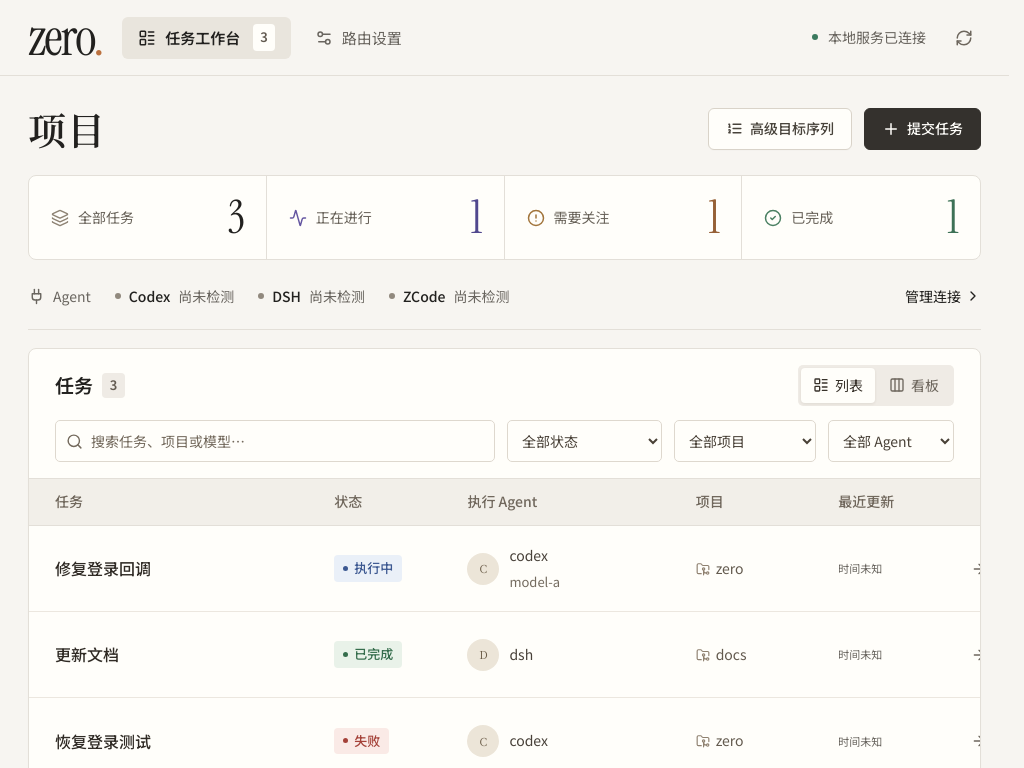
Test: Agent connection management in workspace › keeps missing capability entries unknown instead of inventing missing configuration
Expected: the button "修复登录回调" is shown, [55, 554, 151, 583]
Click the button with aria-label "管理 Agent 连接".
click(938, 296)  # box [895, 278, 981, 315]
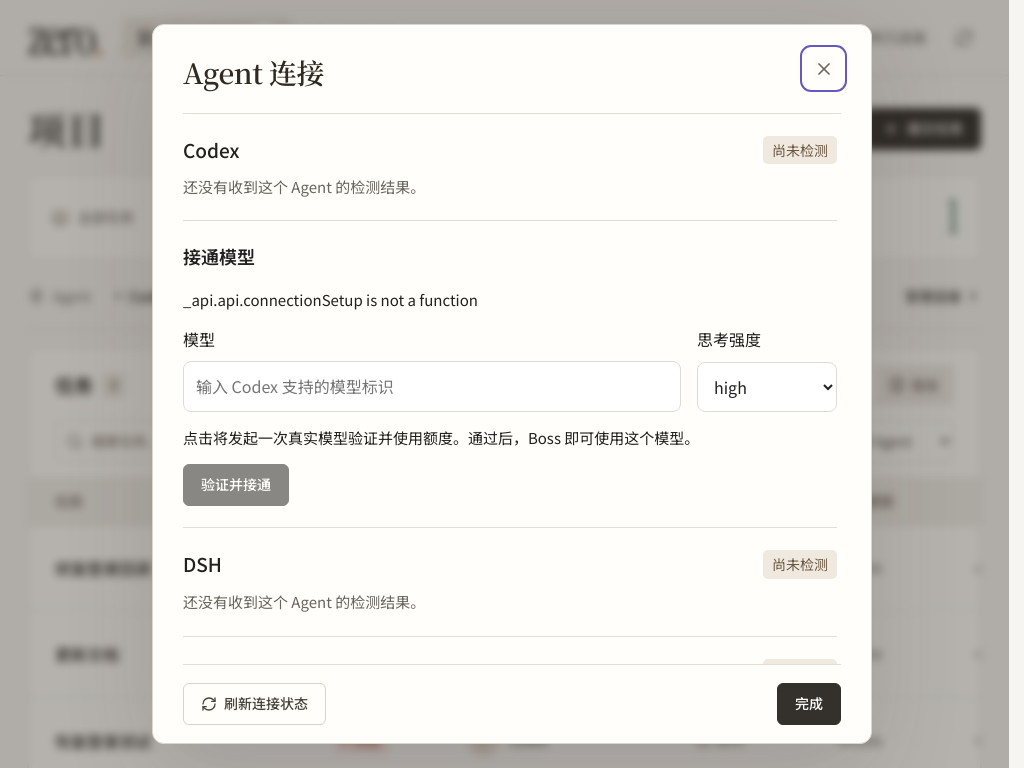
Expected: the text "尚未检测" is shown 3 times
